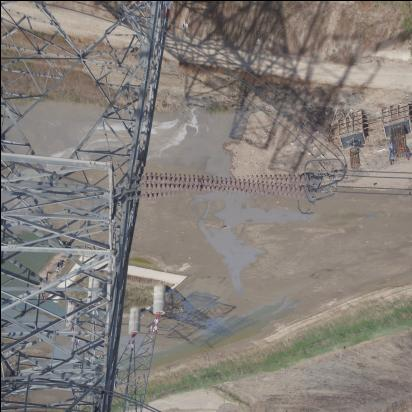insulator: (132, 166, 318, 208)
